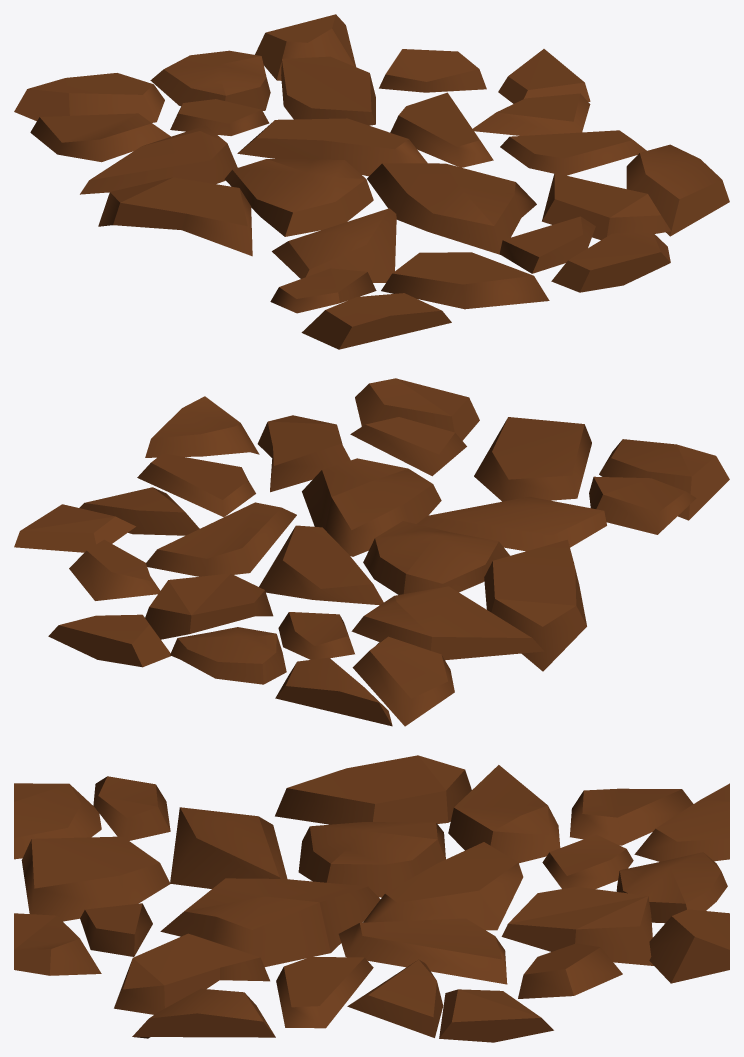
File: Stone_Path_Crossroads_R.fbx
The picture shows the model from 3 angles, top to bottom: view 1: azimuth 30°, elevation 25°; view 2: azimuth 150°, elevation 25°; view 3: azimuth 270°, elevation 25°; orthographic projection. The views are drawn at different scales.
Parts seen in each view (by area): view 1: Stone_Path_Crossroads_R; view 2: Stone_Path_Crossroads_R; view 3: Stone_Path_Crossroads_R.
Boxes of the visible parts, x1,y1,x2,y2 form: Stone_Path_Crossroads_R: (14,14,729,349); Stone_Path_Crossroads_R: (14,378,729,726); Stone_Path_Crossroads_R: (14,755,729,1042).
Size of the model in its own units: 127 by 14.55 by 147.
